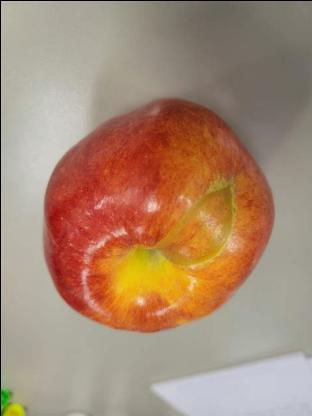defect: (157, 167, 239, 280)
